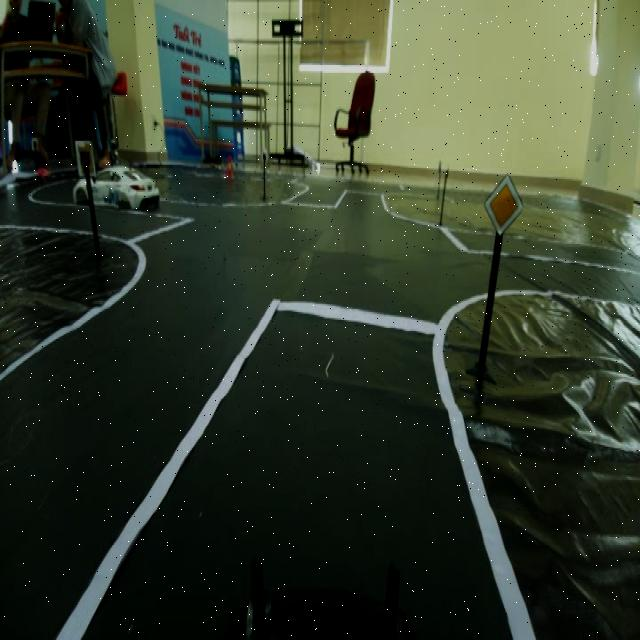priority: (478, 174, 534, 241)
